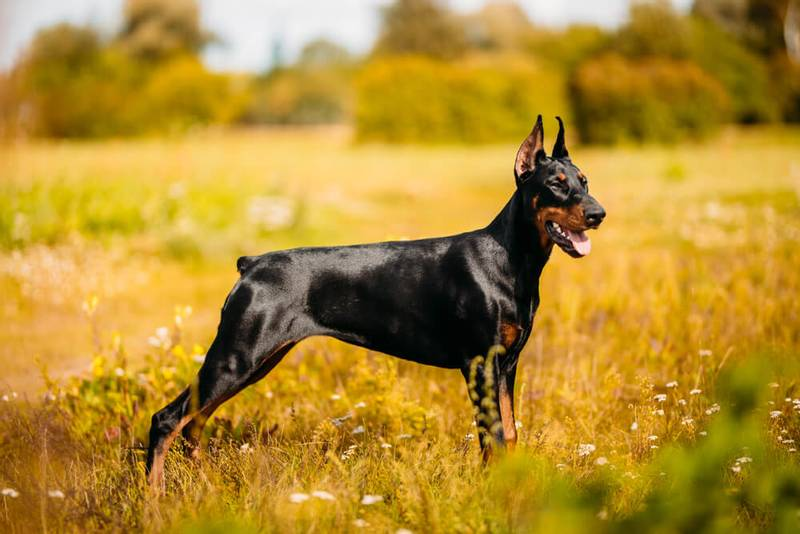dog: (133, 112, 607, 444)
